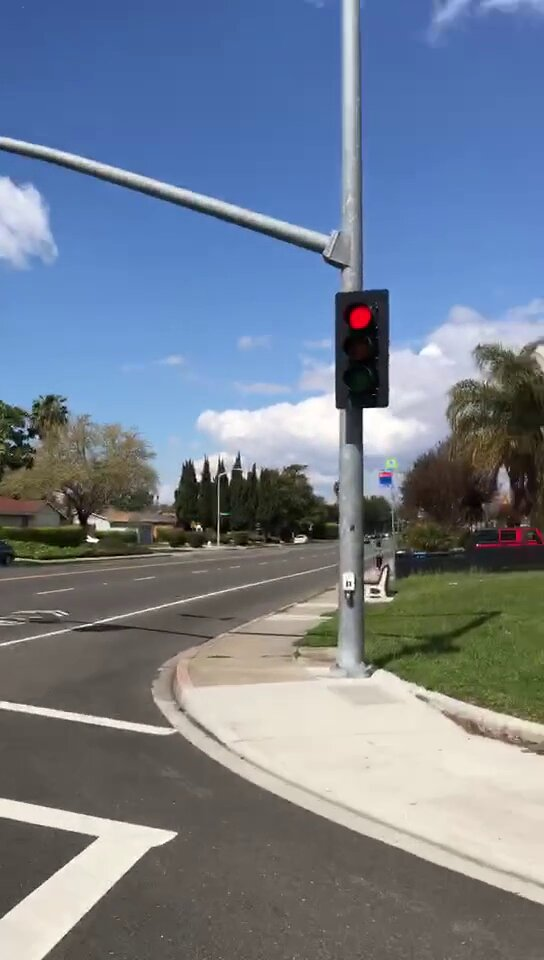red_light: (338, 294, 390, 408)
